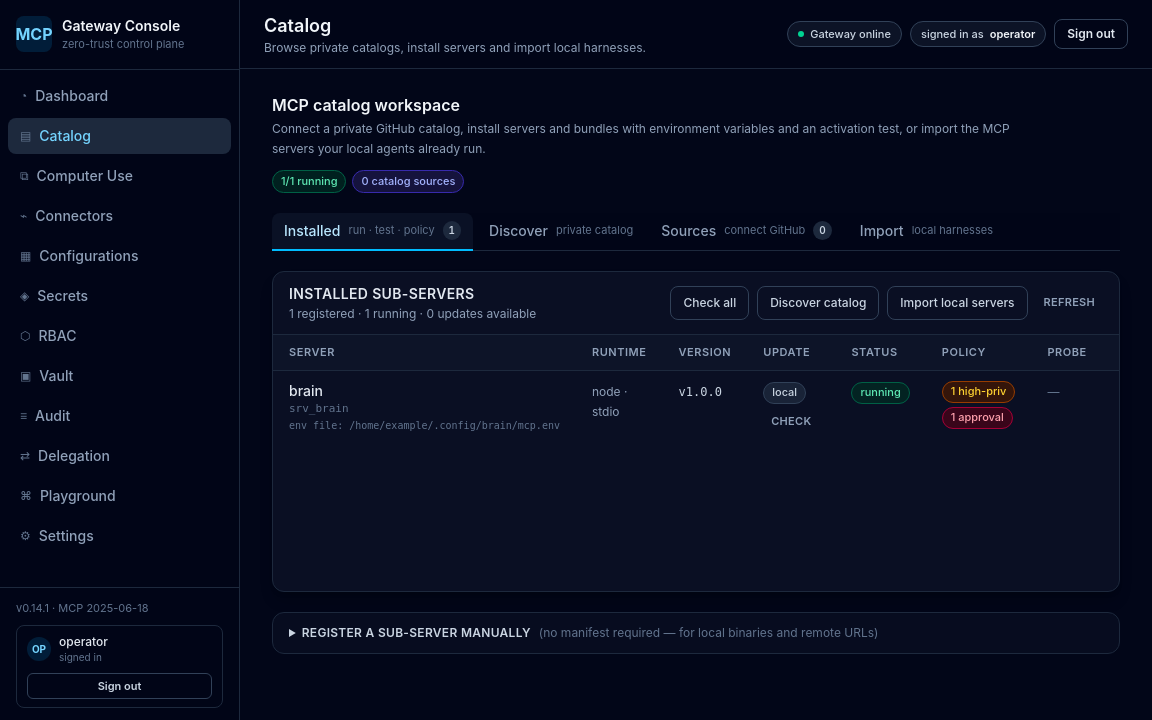
Server inspector routing › opens #/server/<id> from the Installed table and can go back
Click the button "brain": coordinates (306, 391) top-left (289, 381), bottom-right (323, 401)
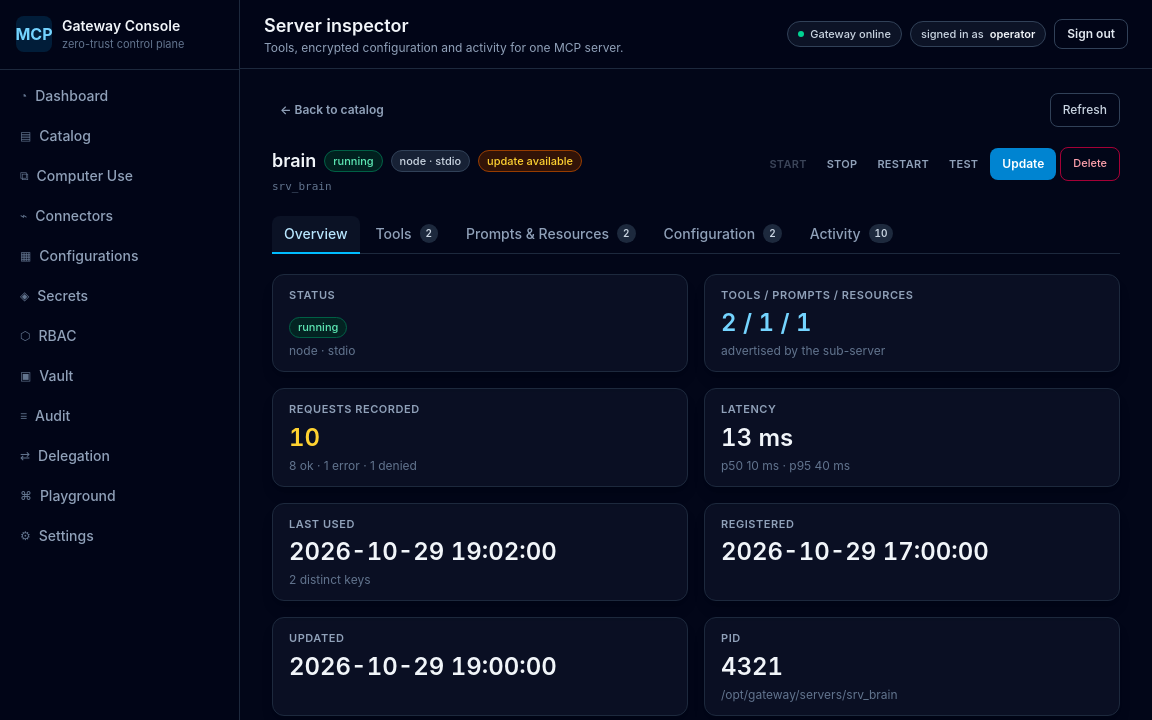
Now the text "Tools / prompts / resources" is shown, box top-left (721, 288), bottom-right (914, 302)
Click the button "← Back to catalog": coordinates (332, 110) top-left (272, 98), bottom-right (392, 122)
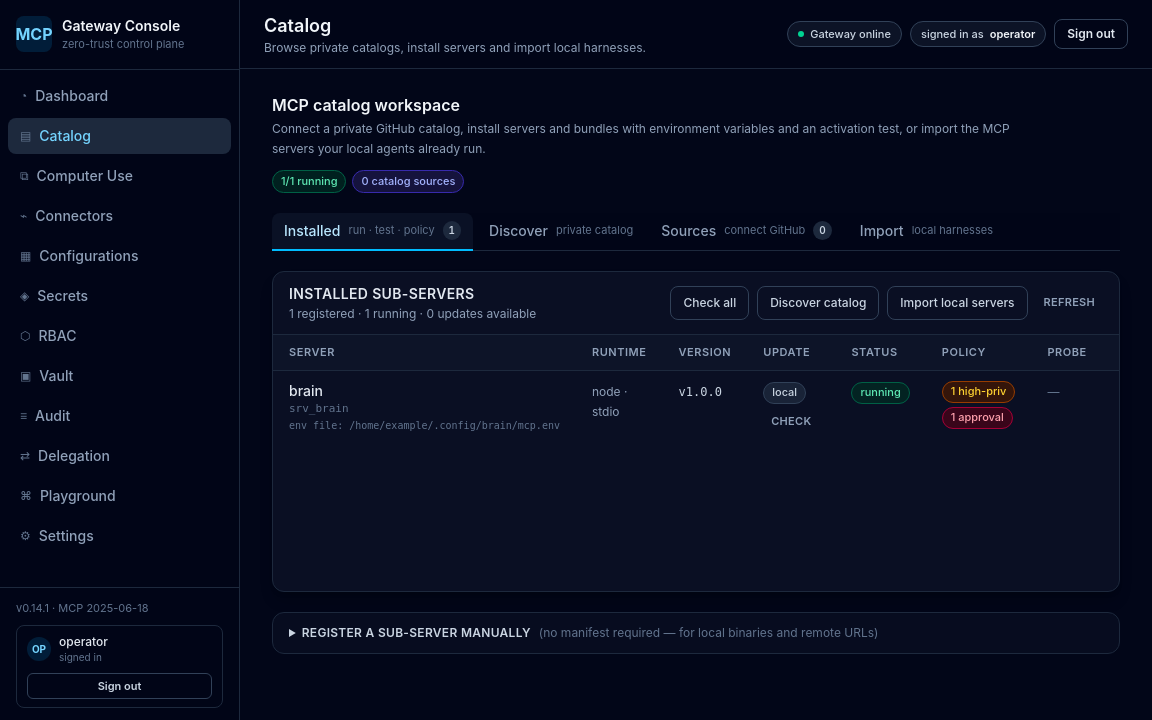
Now the tab "Installed run · test · policy 1" is shown, box top-left (272, 212), bottom-right (473, 250)
